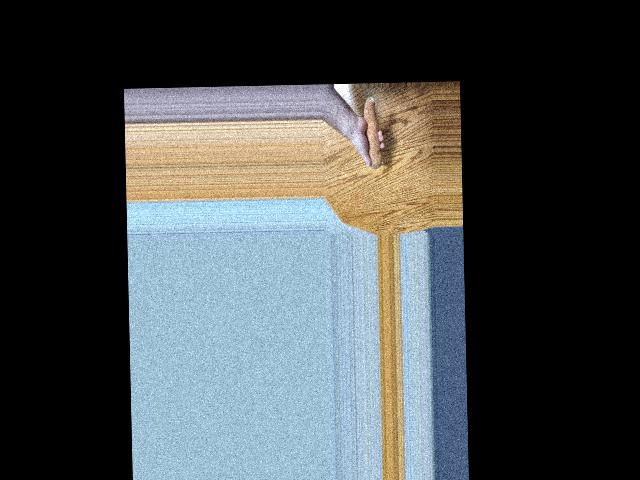sweet_potato: (357, 94, 383, 170)
